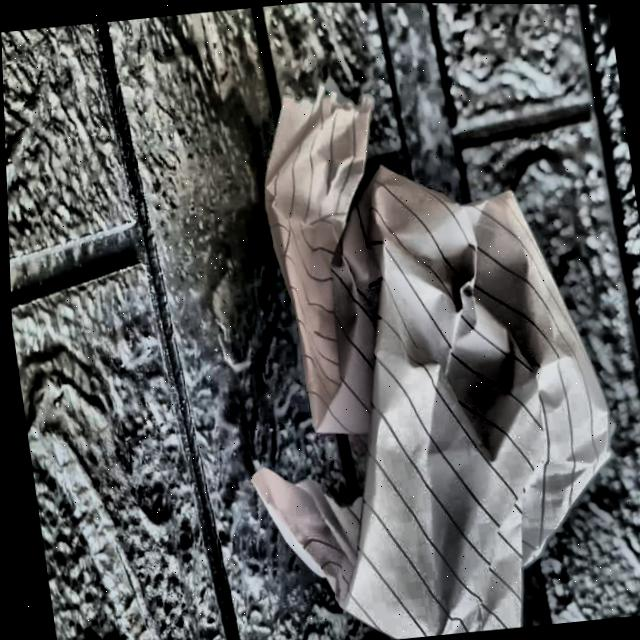paper: (207, 73, 629, 640)
